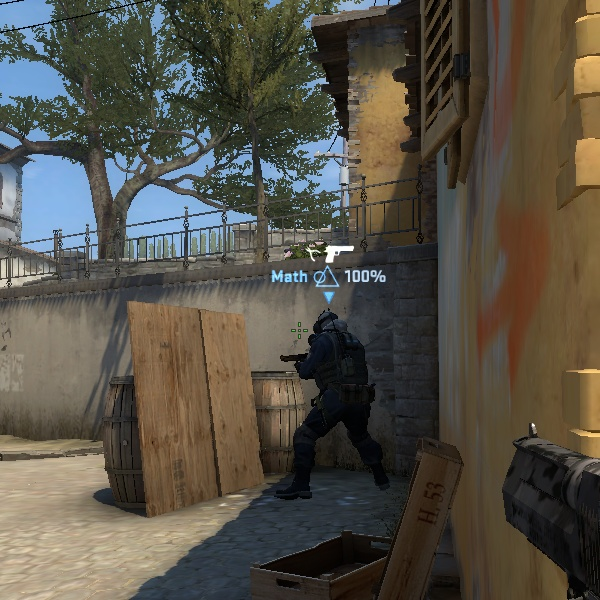ct_body: (277, 298, 384, 497)
ct_head: (305, 302, 349, 343)
